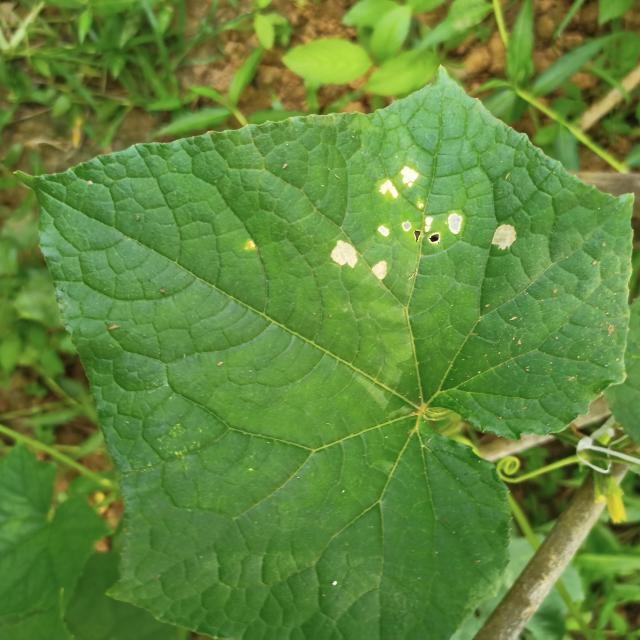disease_cucumber: (331, 164, 515, 280)
